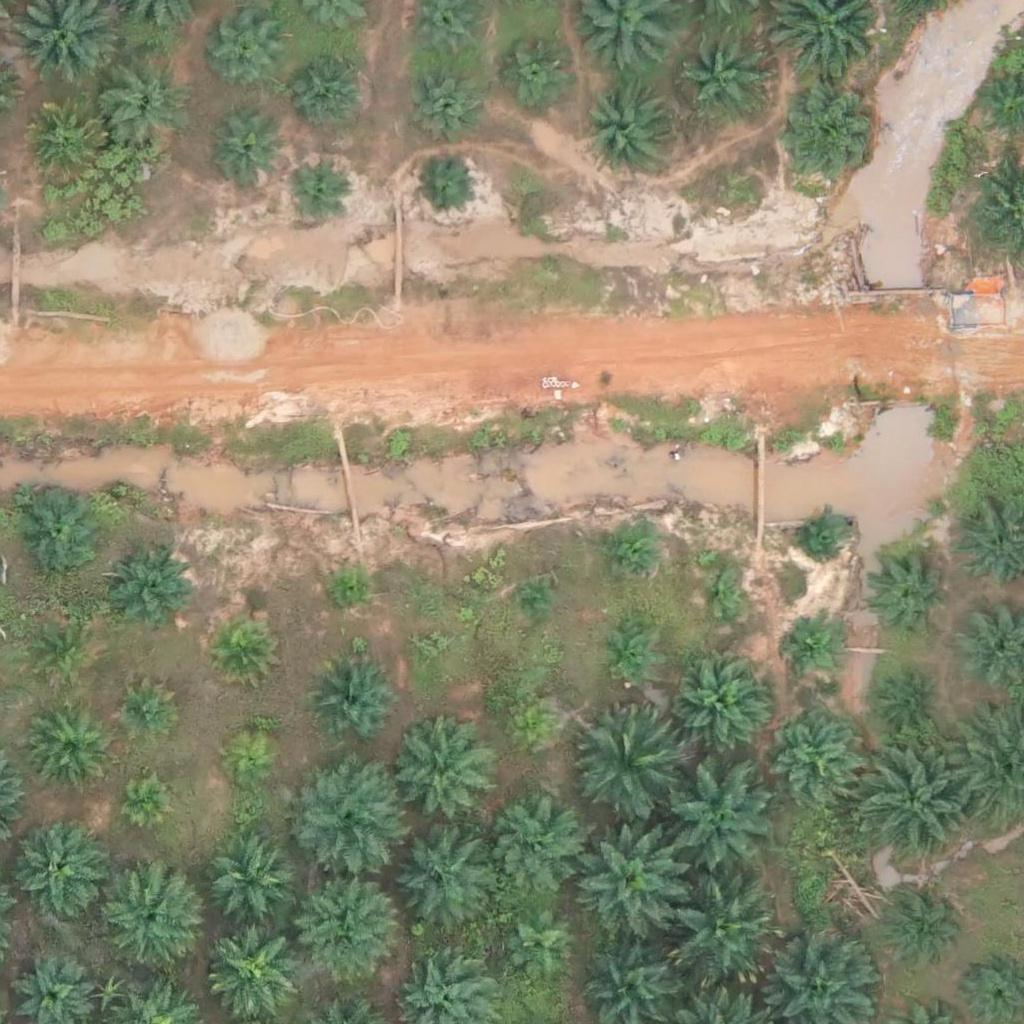Kelapa_Sawit: (860, 739, 973, 852), (659, 763, 772, 876), (568, 703, 681, 816), (573, 835, 686, 948), (289, 758, 401, 872), (670, 880, 782, 993), (396, 726, 496, 827), (294, 883, 394, 984), (777, 90, 877, 191), (675, 655, 775, 755), (490, 796, 590, 896), (397, 833, 497, 933), (201, 921, 301, 1021), (98, 870, 198, 970), (9, 818, 109, 918), (309, 655, 397, 743), (207, 836, 295, 924), (398, 60, 486, 148), (17, 98, 105, 186), (771, 705, 858, 793), (865, 549, 952, 637), (16, 488, 103, 576), (25, 703, 112, 791), (683, 35, 770, 123), (585, 84, 672, 172), (102, 65, 189, 153), (112, 556, 187, 632), (293, 50, 368, 126), (499, 32, 574, 107), (211, 17, 286, 92), (209, 117, 284, 192), (883, 886, 958, 961), (502, 903, 577, 978), (212, 616, 275, 679), (282, 158, 345, 221), (415, 154, 477, 217), (35, 622, 97, 685), (222, 735, 272, 786), (787, 618, 837, 669), (794, 508, 844, 558), (885, 677, 935, 727), (697, 571, 747, 621), (605, 525, 655, 575), (600, 628, 650, 678), (124, 778, 174, 828), (119, 686, 169, 736), (514, 586, 552, 624), (328, 570, 365, 608), (504, 705, 541, 742), (417, 633, 442, 659)
